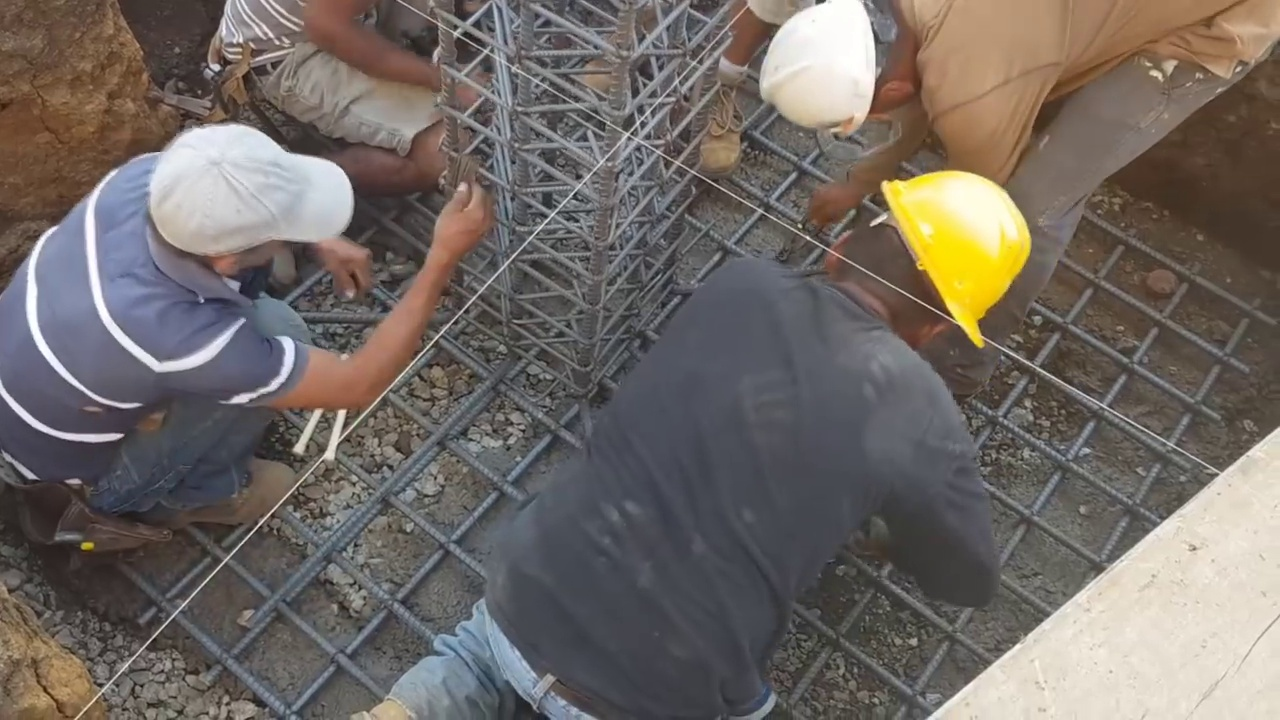helmet: (882, 174, 1033, 347), (755, 3, 893, 132)
helmet-off: (140, 131, 360, 302)
helmet-on: (819, 155, 1044, 343), (753, 3, 963, 133)
person: (441, 156, 1034, 710), (11, 119, 484, 554), (754, 0, 1280, 354), (201, 0, 487, 199)
